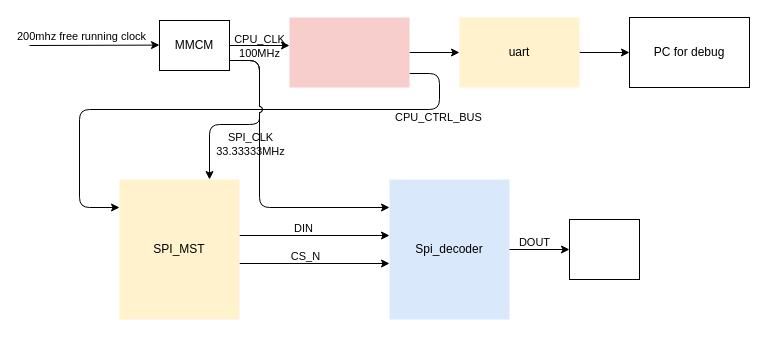
Image size: 767x337. Some labels were removed from this diagram. The box of each missing label's shape, as (x1, y1, x2, y2) in pixels:
ILA: (568, 218, 640, 280)
Microblaze: (289, 17, 409, 87)
